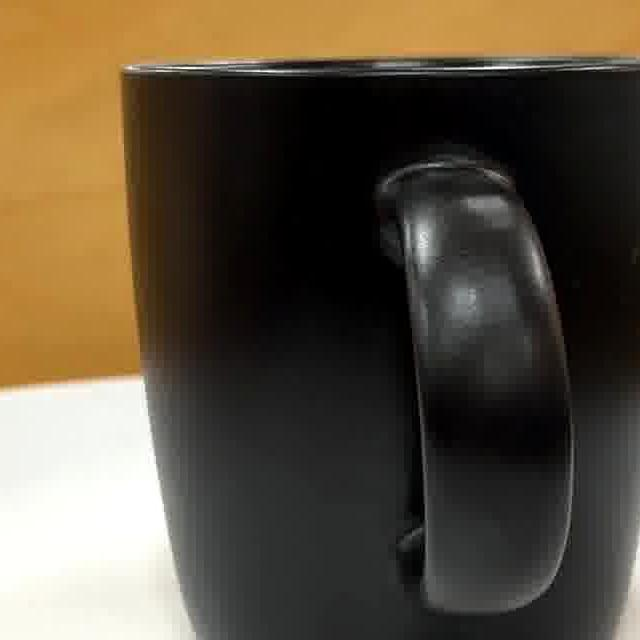cup: (125, 60, 640, 640)
